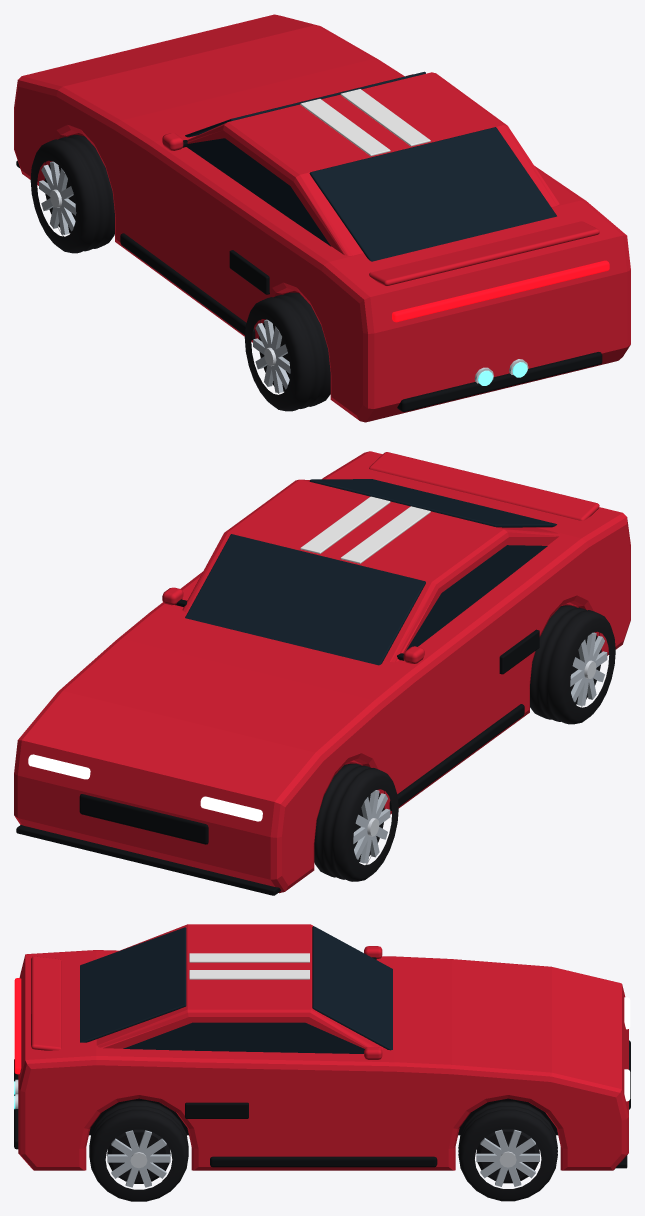
File: bruno-gt.glb
3 renders of one model, top to bottom at view 1: azimuth 30°, elevation 25°; view 2: azimuth 150°, elevation 25°; view 3: azimuth 270°, elevation 25°, orthographic. The views are drawn at different scales.
Parts seen in each view (by area): view 1: Body, RearWindow, Cabin, Tire (×2), LipSpoiler, SideGlass, RoofStripe (×2), Diffuser, TailLight, Skirt, SideIntake, Windscreen; view 2: Body, Windscreen, Cabin, Tire (×2), LipSpoiler, SideGlass, RearWindow, RoofStripe (×2), Grille, Splitter, Skirt, Headlight (×2) (+1 smaller); view 3: Body, Cabin, Tire (×2), RearWindow, Windscreen, SideGlass, LipSpoiler, Skirt, Spoke (×6), RoofStripe (×2), RimDish (×2), SideIntake (+2 smaller).
Boxes of the visible parts, box(x1,y1,x2,y2) form: Body: box(14, 14, 630, 422); RearWindow: box(309, 127, 556, 261); Cabin: box(187, 72, 559, 255); Tire (×2): box(30, 135, 330, 411); LipSpoiler: box(369, 221, 599, 286); SideGlass: box(187, 138, 330, 246); RoofStripe (×2): box(300, 89, 430, 156); Diffuser: box(397, 352, 602, 411); TailLight: box(392, 260, 609, 322); Skirt: box(120, 233, 255, 340); SideIntake: box(229, 250, 269, 294); Windscreen: box(185, 71, 425, 137); Body: box(14, 451, 630, 893); Windscreen: box(185, 534, 425, 665); Cabin: box(182, 479, 559, 662); Tire (×2): box(314, 605, 615, 881); LipSpoiler: box(369, 452, 599, 520); SideGlass: box(400, 545, 547, 660); RearWindow: box(309, 479, 556, 527); RoofStripe (×2): box(300, 496, 430, 563); Grille: box(79, 794, 208, 844); Splitter: box(16, 824, 280, 895); Skirt: box(389, 704, 524, 810); Headlight (×2): box(28, 754, 262, 821); Body: box(18, 950, 628, 1170); Cabin: box(96, 924, 382, 1052); Tire (×2): box(89, 1101, 557, 1201); RearWindow: box(80, 927, 186, 1042); Windscreen: box(312, 926, 392, 1050); SideGlass: box(123, 1022, 364, 1053); LipSpoiler: box(31, 956, 61, 1050); Skirt: box(210, 1156, 437, 1167); Spoke (×6): box(107, 1138, 539, 1178); RoofStripe (×2): box(189, 953, 309, 979); RimDish (×2): box(107, 1129, 539, 1183); SideIntake: box(185, 1102, 248, 1118).
Bounding box in the file's own units: 2.25 × 1.34 × 4.34.
